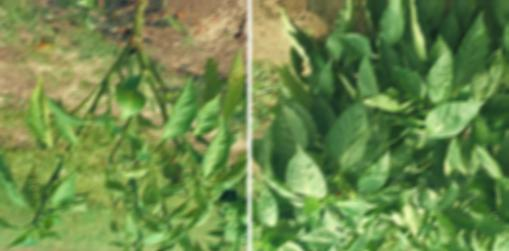Tomato leaf bacterial spot: (436, 11, 490, 104), (319, 102, 372, 176), (424, 94, 488, 138), (285, 140, 329, 201), (163, 72, 203, 139), (215, 47, 247, 129), (24, 68, 54, 150), (202, 115, 236, 186), (356, 141, 395, 193), (354, 49, 383, 106), (429, 44, 454, 103), (117, 71, 148, 118), (340, 26, 380, 61), (379, 0, 407, 49), (48, 170, 81, 210), (445, 137, 471, 177), (139, 226, 170, 240)
